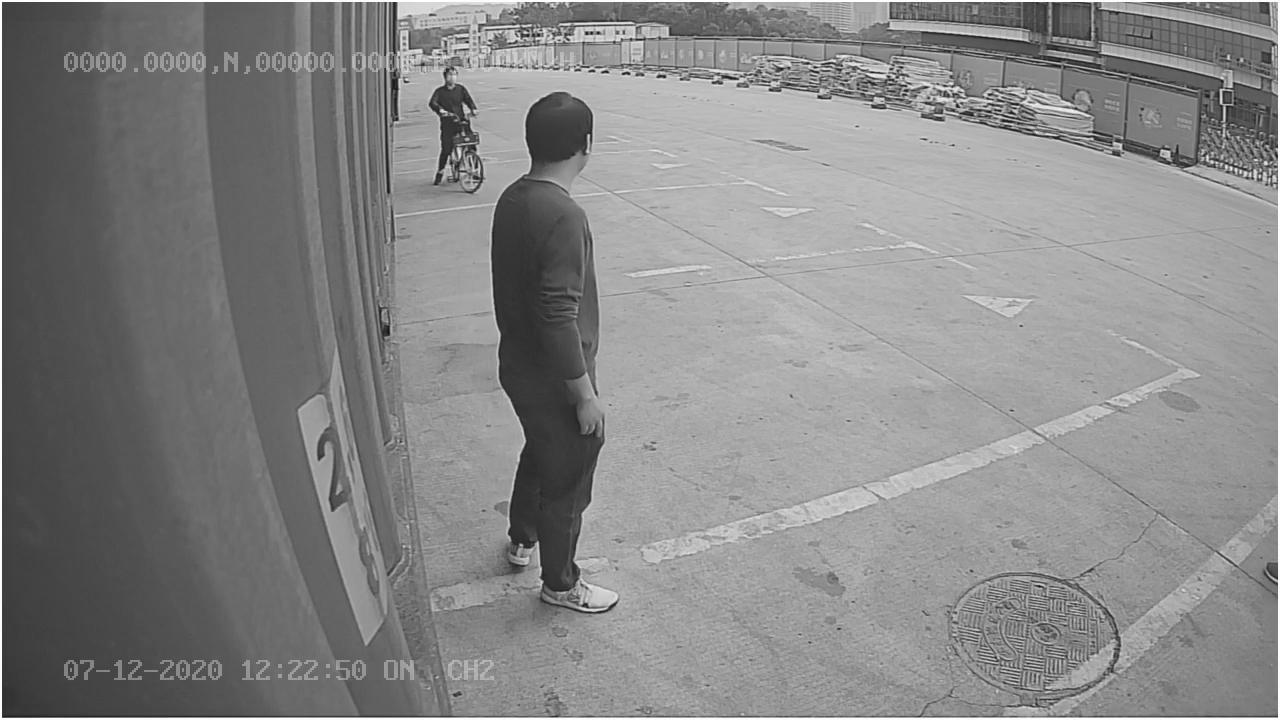person: (488, 82, 631, 617)
